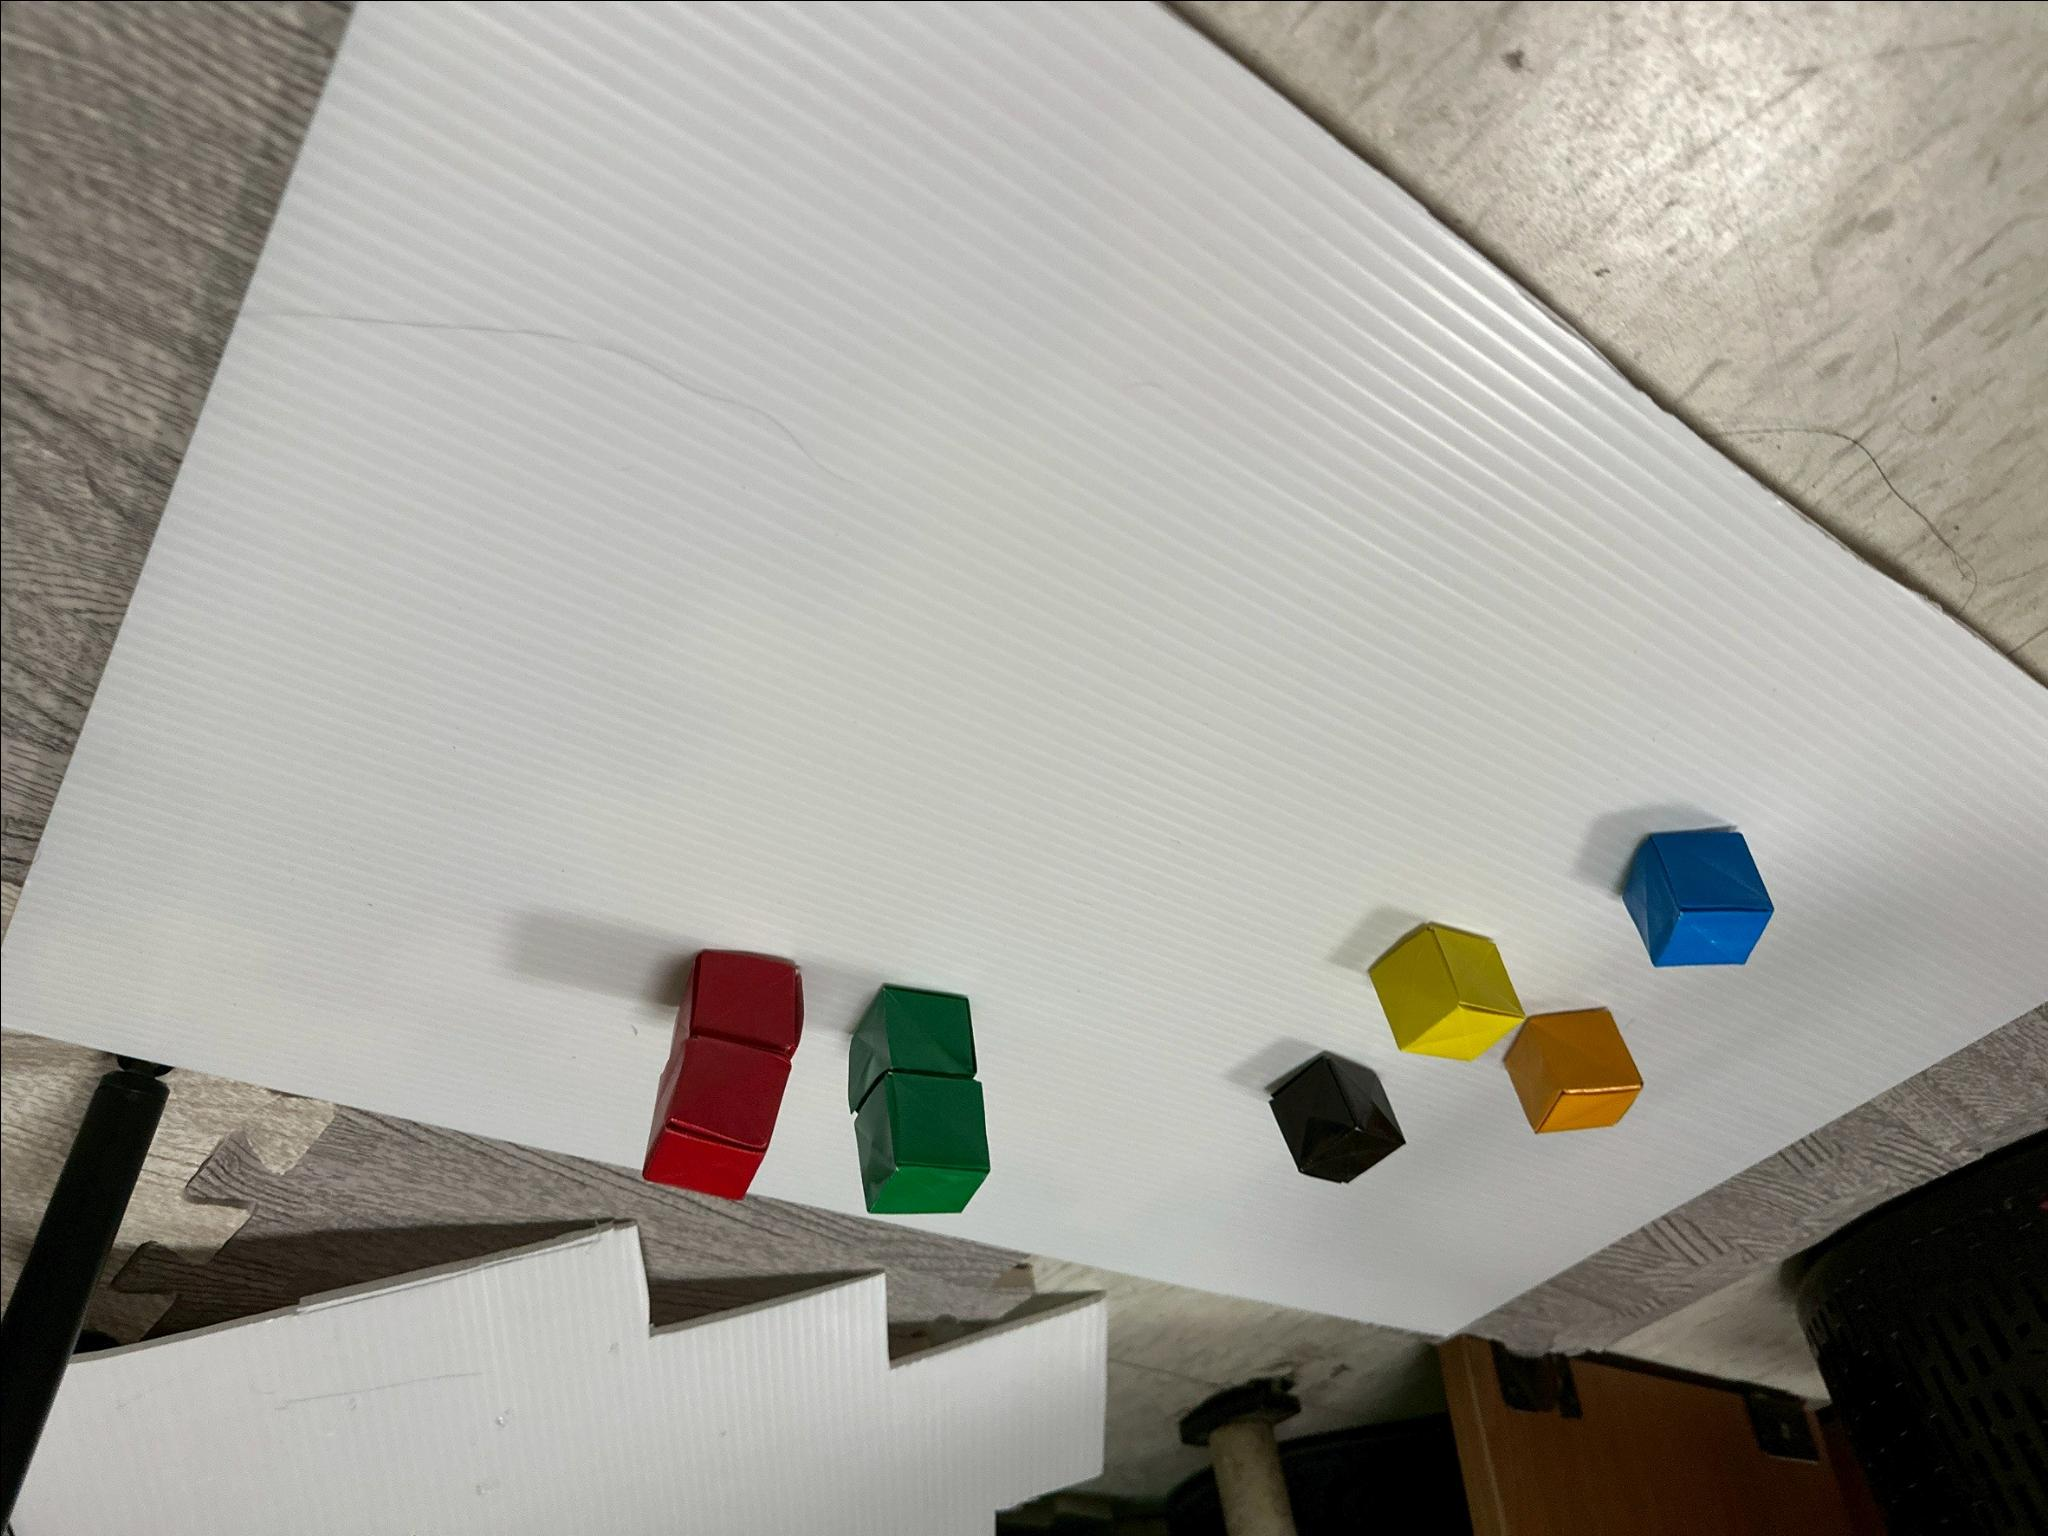base: (643, 1034, 789, 1199), (1622, 828, 1774, 966), (1369, 926, 1524, 1060), (856, 1071, 989, 1212), (1505, 1008, 1642, 1133), (1272, 1052, 1403, 1181), (848, 986, 974, 1112), (674, 949, 801, 1062)
